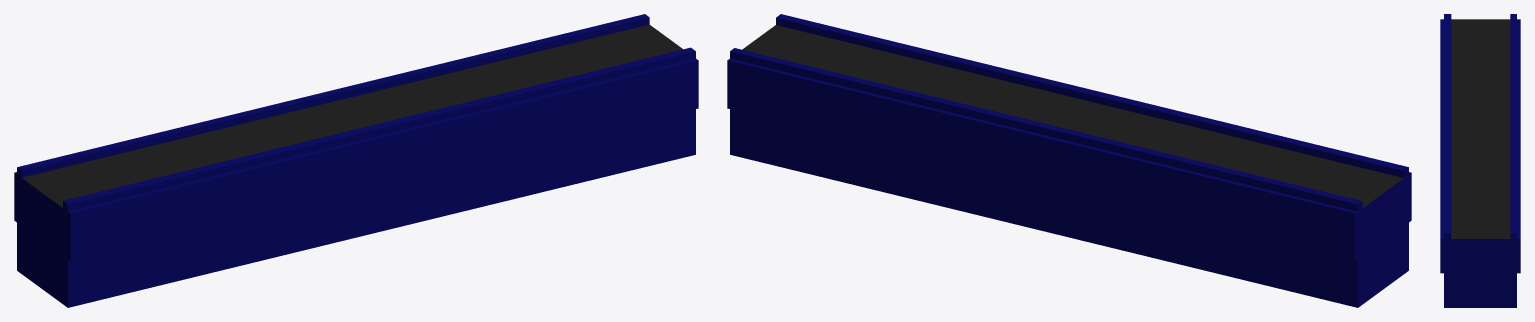
3 views of the same model, side by side, from view 1: azimuth 30°, elevation 25°; view 2: azimuth 150°, elevation 25°; view 3: azimuth 270°, elevation 25° (orthographic). The views are drawn at different scales.
Visible parts, largest first — view 1: Cube.002 (×2); view 2: Cube.002 (×2); view 3: Cube.002 (×2).
Boxes of the visible parts, x1=… form: Cube.002 (×2): x1=14, y1=14, x2=698, y2=307; Cube.002 (×2): x1=727, y1=14, x2=1411, y2=307; Cube.002 (×2): x1=1440, y1=14, x2=1520, y2=307.
Bounding box in the file's own units: 2 × 0.3148 × 0.3091.
